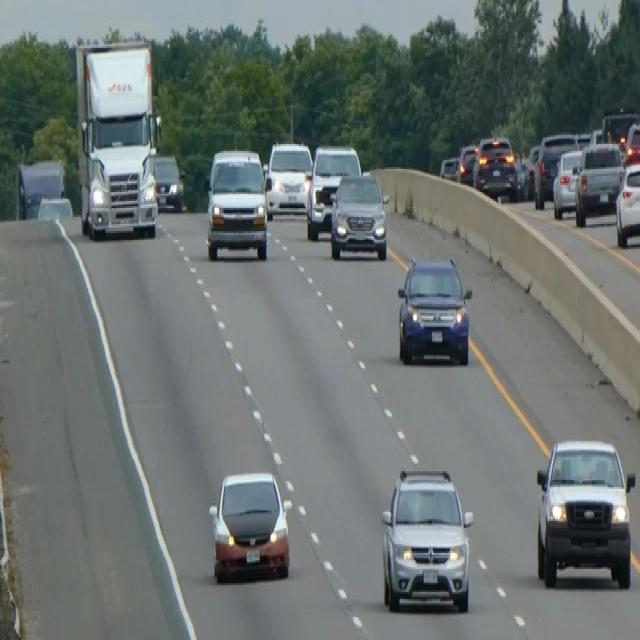car: (207, 468, 290, 583), (396, 252, 472, 366), (305, 142, 361, 240), (329, 170, 388, 260), (573, 138, 623, 225), (264, 138, 312, 218), (533, 130, 577, 208), (473, 135, 517, 201), (614, 158, 639, 247), (551, 148, 582, 218), (152, 153, 184, 211), (600, 109, 639, 150), (522, 142, 540, 198), (457, 142, 477, 183), (623, 118, 639, 166), (439, 153, 460, 181)
jeep: (534, 434, 635, 590), (378, 462, 475, 615)
lorry: (73, 37, 162, 240)
minivan: (204, 146, 268, 261)
